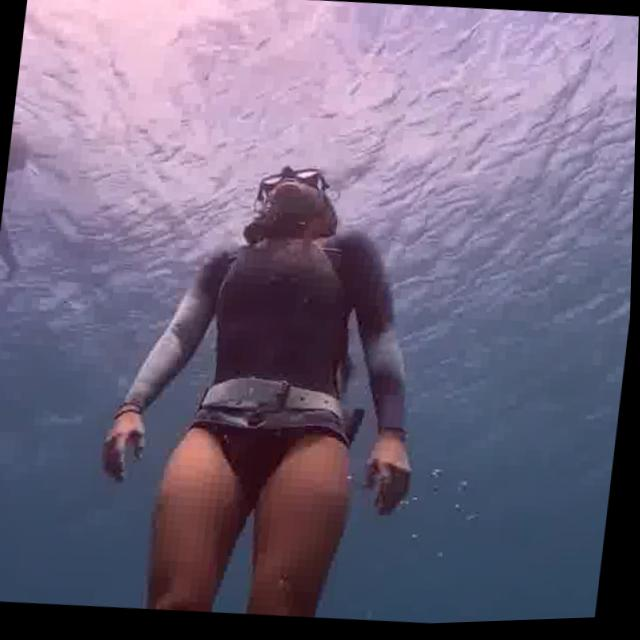human: (51, 125, 466, 636), (0, 44, 86, 403)
